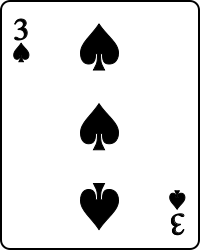three of spades: (1, 1, 200, 247)
